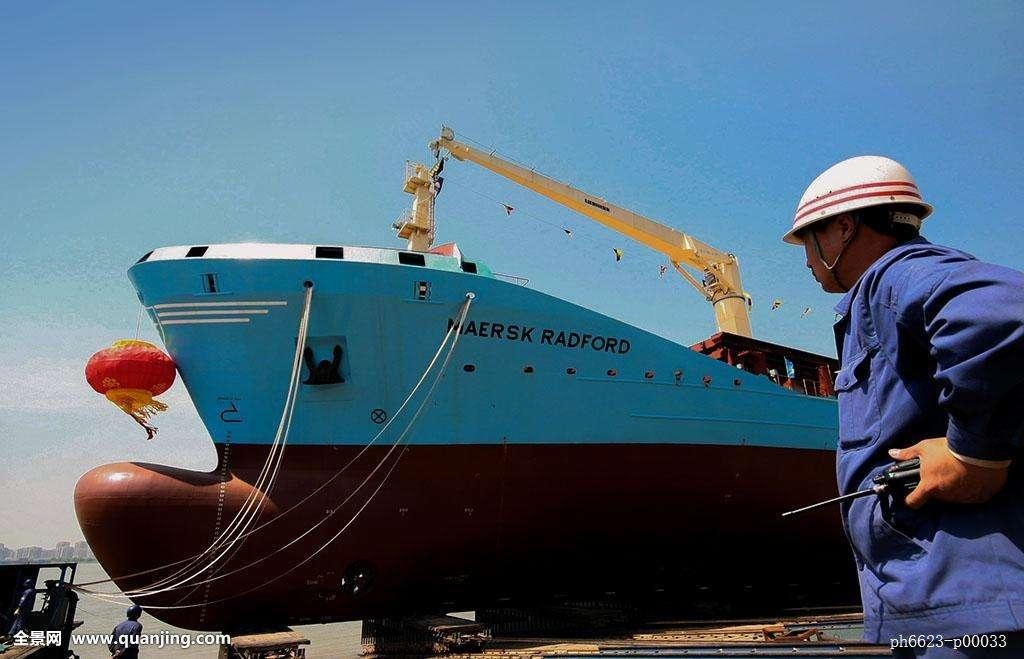Cargoship: (59, 111, 1017, 626)
person: (778, 143, 1024, 659)
